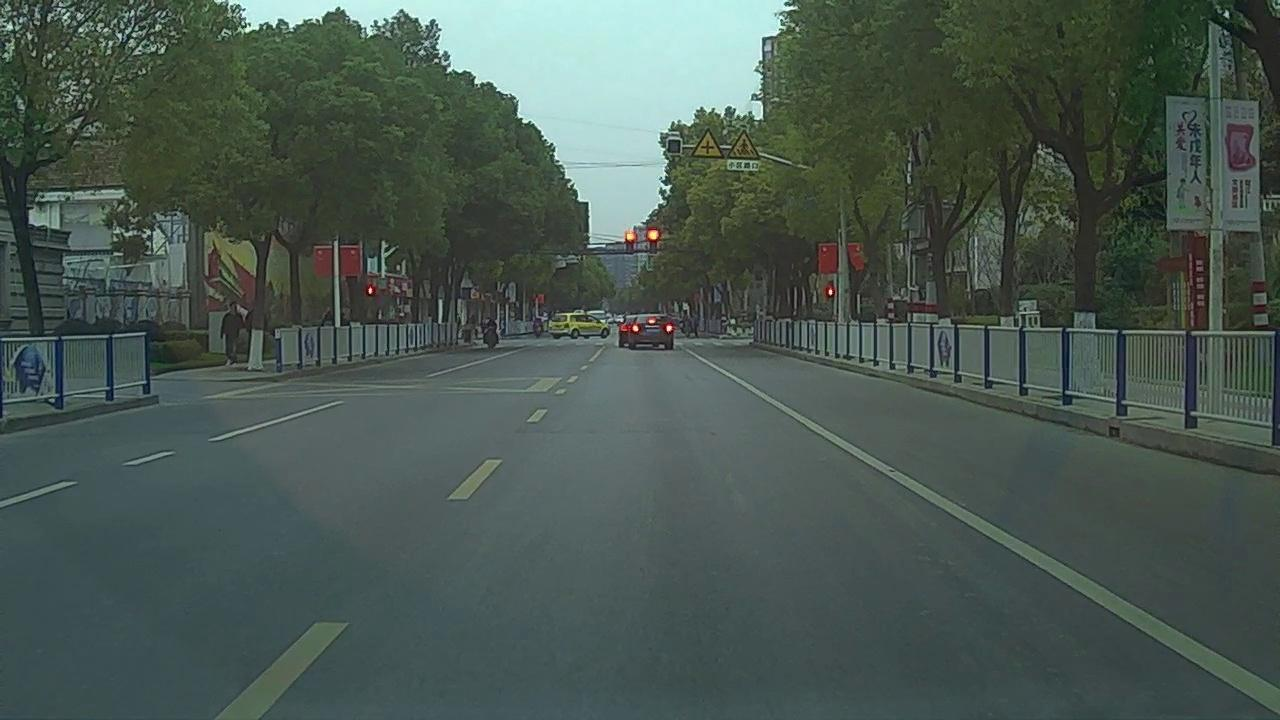traffic_light: (648, 228, 661, 254), (627, 233, 637, 256)
